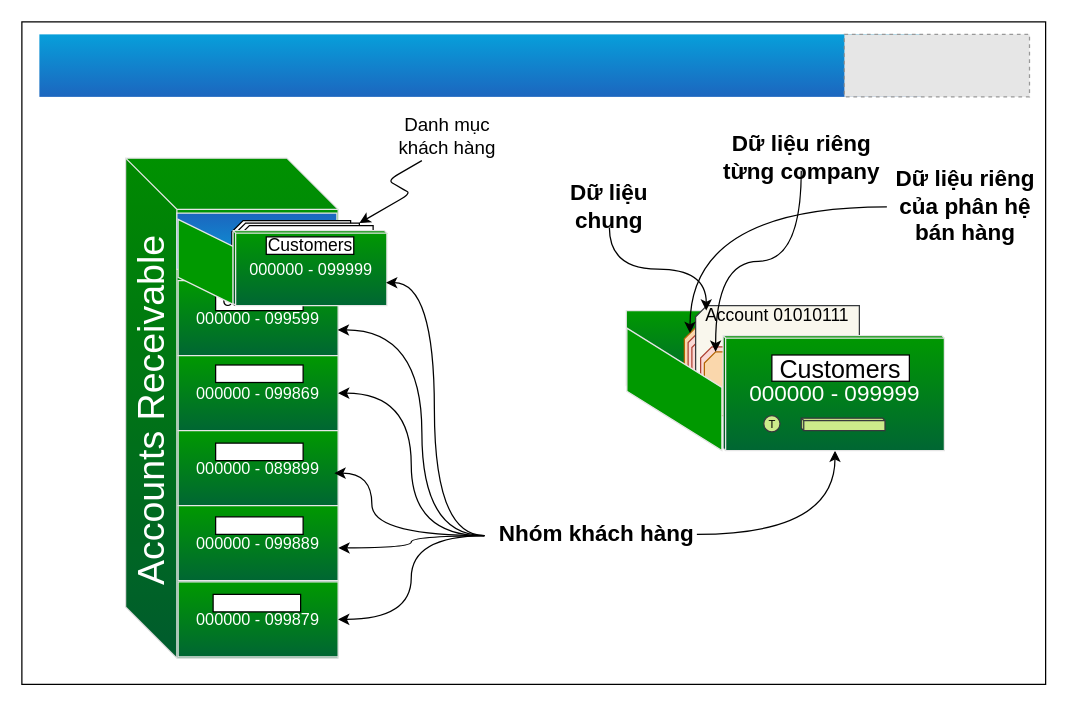
The diagram is 1068 pixels wide and 706 high, and some of its shapes have lost their labels. Grey dashed boxes stand in for pictures. The centre of each missing label's shape, as x and y in pixels:
"Dom" goes at [258,373].
"Lead" goes at [256,602].
"Nhóm Tài khoản cho các Khách hàng" goes at [480,65].
"One time" goes at [258,525].
"VIP" goes at [258,451].
